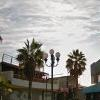Palm tree: (16, 34, 46, 99)
